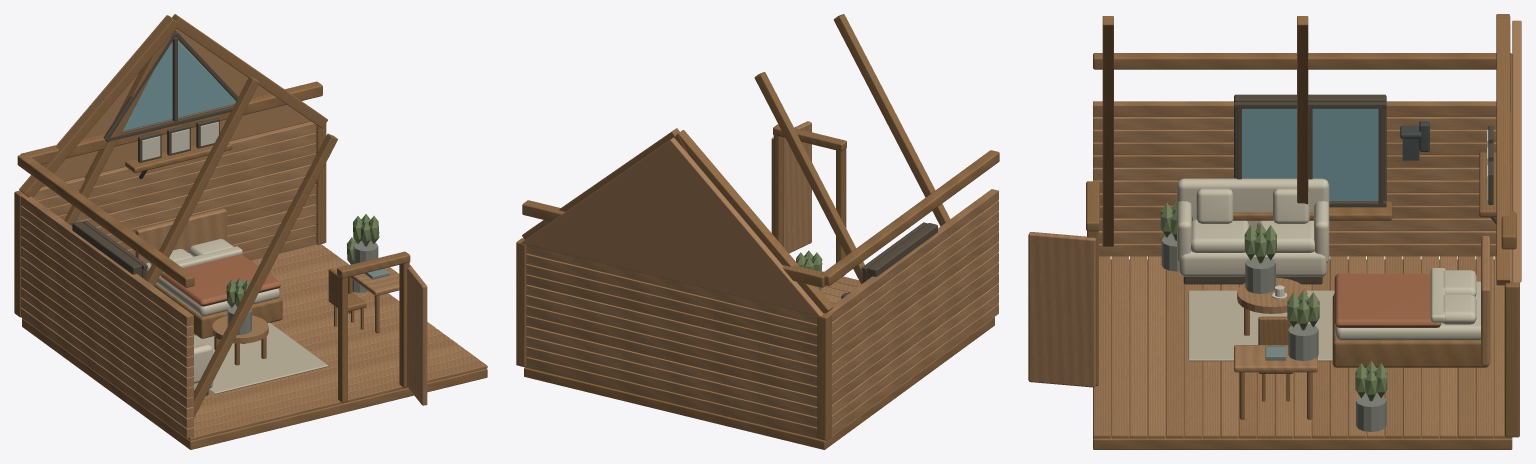
File: Lake_Interior_AFrame.glb
The picture shows the model from 3 angles, left to right: view 1: azimuth 30°, elevation 25°; view 2: azimuth 150°, elevation 25°; view 3: azimuth 270°, elevation 25°; orthographic projection. The views are drawn at different scales.
Visible parts, largest first — view 1: Interior_AFrame; view 2: Interior_AFrame; view 3: Interior_AFrame.
Boxes of the visible parts, x1,y1,x2,y2 form: Interior_AFrame: (14,14,487,449); Interior_AFrame: (516,14,999,449); Interior_AFrame: (1028,14,1521,449).
Bounding box in the file's own units: 5.78 × 4.98 × 6.47.
17 materials, 5 textured.
